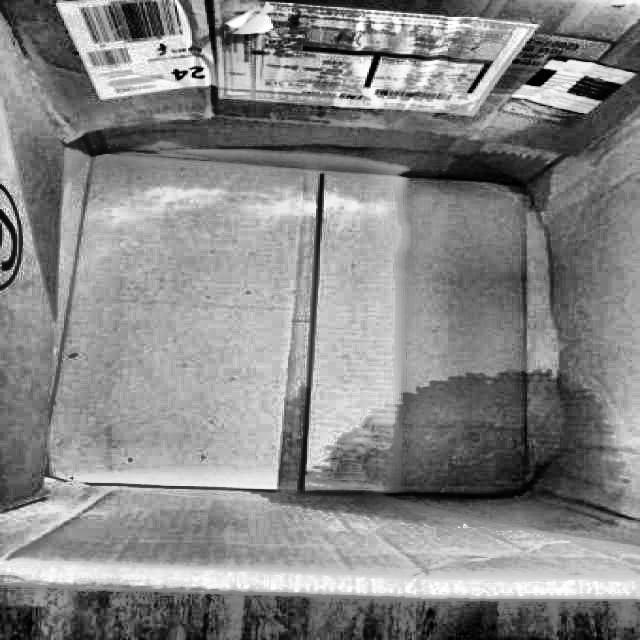box: (0, 0, 640, 605)
wet: (298, 372, 631, 544)
